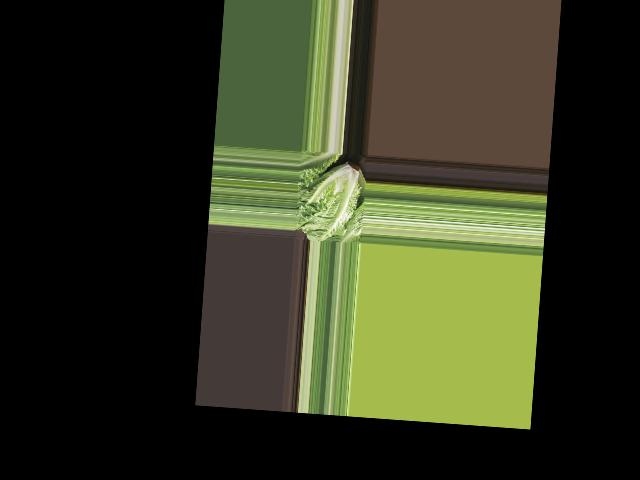lettuce: (299, 155, 368, 243)
